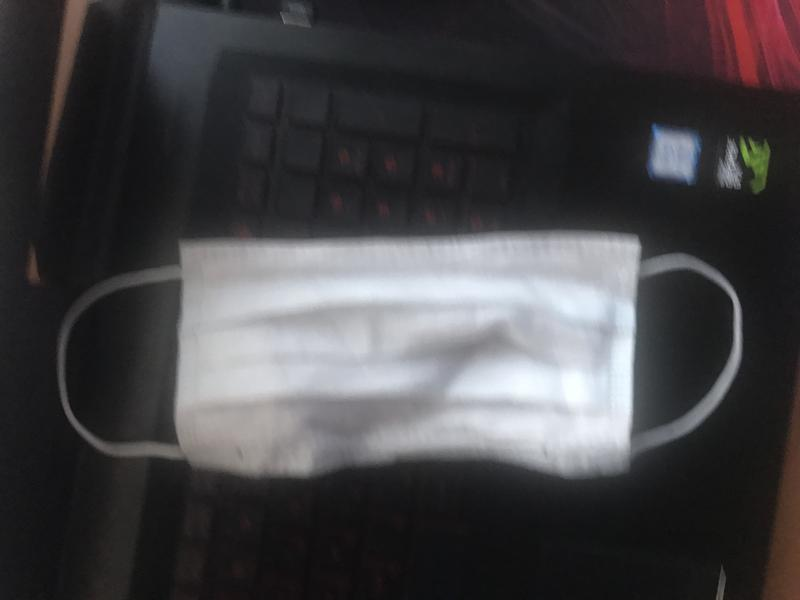medical_mask: (56, 234, 744, 476)
